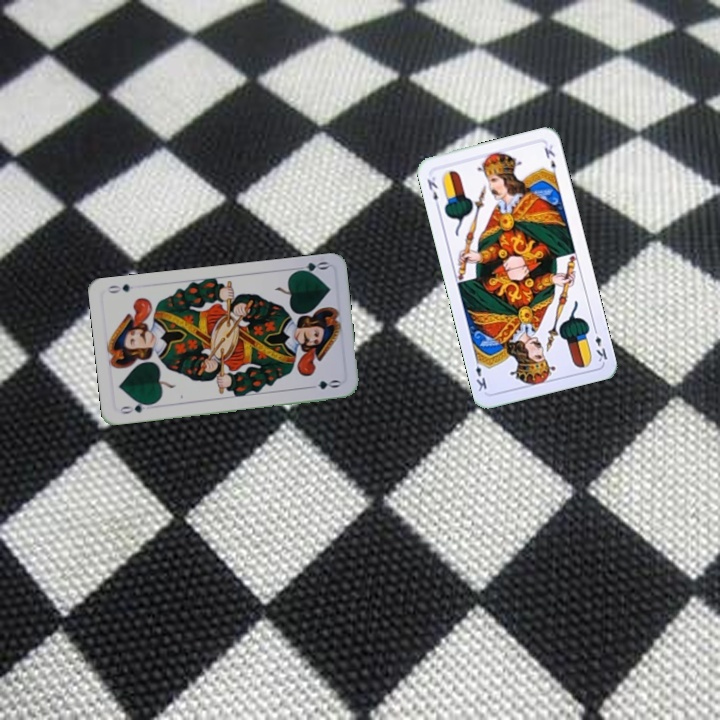EK: (589, 323, 610, 364), (423, 172, 442, 211)
GO: (290, 257, 330, 277), (116, 398, 156, 416)
